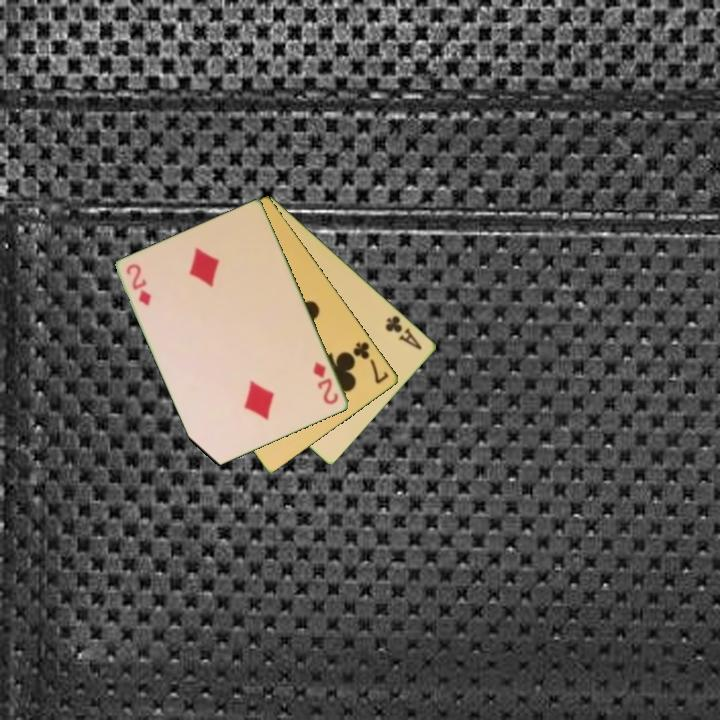2d: (310, 358, 342, 408), (123, 260, 154, 309)
7c: (349, 338, 392, 387)
Ac: (382, 312, 426, 353)
